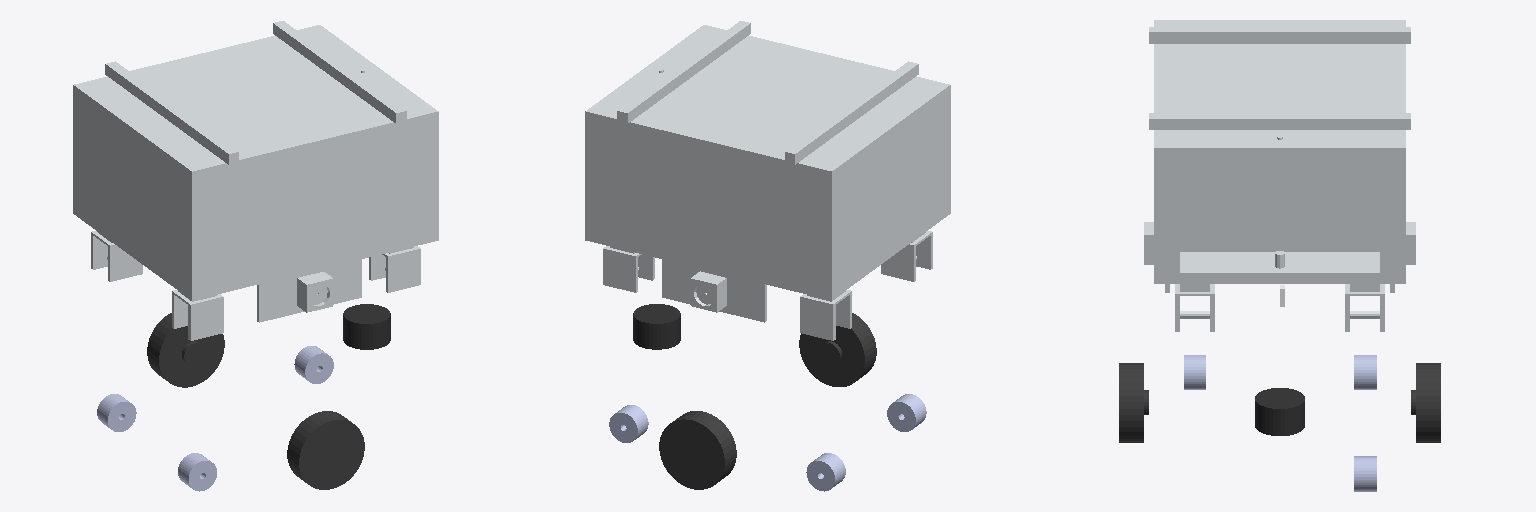
The robot description file, URDF, robot "custom_amr":
<?xml version="1.0" encoding="utf-8"?>

<robot
  name="custom_amr">
  
  <!-- LINKS AND JOINTS (With sensor links and sensor joints)-->
  <link name="base_footprint">
    
  </link>
  
  <link
    name="base_link">
    <inertial>
      <origin
        xyz="-0.013949 0 -0.15385"
        rpy="0 0 0" />
      <mass
        value="241.44" />
      <inertia
        ixx="7.4412"
        ixy="1.9468E-15"
        ixz="-0.18882"
        iyy="8.8511"
        iyz="1.2162E-16"
        izz="11.883" />
    </inertial>
    <visual>
      <origin
        xyz="0 0 0"
        rpy="0 0 0" />
      <geometry>
        <mesh
          filename="package://amr_description/meshes/base_link.STL" />
      </geometry>
      <material
        name="">
        <color
          rgba="0.89804 0.91765 0.92941 1" />
      </material>
    </visual>
    <collision>
      <origin
        xyz="0 0 0"
        rpy="0 0 0" />
      <geometry>
        <mesh
          filename="package://amr_description/meshes/base_link.STL" />
      </geometry>
    </collision>
  </link>
  
  <joint name="base_joint" type="fixed">
    <origin xyz="0.0 0.0 0.43" rpy="0.0 0.0 0.0"/>
    <parent link="base_footprint"/>
    <child link="base_link"/>
  </joint>
  
  <link
    name="left_wheel">
    <inertial>
      <origin
        xyz="-5.5511E-17 -0.00057471 0"
        rpy="0 0 0" />
      <mass
        value="1.0249" />
      <inertia
        ixx="0.0018385"
        ixy="2.5664E-19"
        ixz="6.6326E-22"
        iyy="0.0032231"
        iyz="-2.3517E-21"
        izz="0.0018385" />
    </inertial>
    <visual>
      <origin
        xyz="0 0 0"
        rpy="0 0 0" />
      <geometry>
        <mesh
          filename="package://amr_description/meshes/left_wheel.STL" />
      </geometry>
      <material
        name="">
        <color
          rgba="0.29804 0.29804 0.29804 1" />
      </material>
    </visual>
    <collision>
      <origin
        xyz="0 0 0"
        rpy="0 0 0" />
      <geometry>
        <mesh
          filename="package://amr_description/meshes/left_wheel.STL" />
      </geometry>
    </collision>
  </link>


  <joint
    name="left_wheel_joint"
    type="continuous">
    <origin
      xyz="0 0.295 -0.35"
      rpy="0 0 0" />
    <parent
      link="base_link" />
    <child
      link="left_wheel" />
    <axis
      xyz="0 1 0" />
  </joint>


  <link
    name="right_wheel">
    <inertial>
      <origin
        xyz="0 0.00057471 2.7756E-17"
        rpy="0 0 0" />
      <mass
        value="1.0249" />
      <inertia
        ixx="0.0018385"
        ixy="2.5368E-19"
        ixz="-2.778E-20"
        iyy="0.0032231"
        iyz="2.7245E-20"
        izz="0.0018385" />
    </inertial>
    <visual>
      <origin
        xyz="0 0 0"
        rpy="0 0 0" />
      <geometry>
        <mesh
          filename="package://amr_description/meshes/right_wheel.STL" />
      </geometry>
      <material
        name="">
        <color
          rgba="0.29804 0.29804 0.29804 1" />
      </material>
    </visual>
    <collision>
      <origin
        xyz="0 0 0"
        rpy="0 0 0" />
      <geometry>
        <mesh
          filename="package://amr_description/meshes/right_wheel.STL" />
      </geometry>
    </collision>
  </link>

  
  <joint
    name="right_wheel_joint"
    type="continuous">
    <origin
      xyz="0 -0.295 -0.35"
      rpy="0 0 0" />
    <parent
      link="base_link" />
    <child
      link="right_wheel" />
    <axis
      xyz="0 1 0" />
  </joint>
  <link
    name="front_right_caster_link">
    <inertial>
      <origin
        xyz="0 0 0"
        rpy="0 0 0" />
      <mass
        value="0.16523" />
      <inertia
        ixx="8.0807E-05"
        ixy="4.7926E-21"
        ixz="1.8251E-35"
        iyy="0.00010585"
        iyz="8.3934E-20"
        izz="8.0807E-05" />
    </inertial>
    <visual>
      <origin
        xyz="0 0 0"
        rpy="0 0 0" />
      <geometry>
        <mesh
          filename="package://amr_description/meshes/front_right_caster_link.STL" />
      </geometry>
      <material
        name="">
        <color
          rgba="0.79216 0.81961 0.93333 1" />
      </material>
    </visual>
    <collision>
      <origin
        xyz="0 0 0"
        rpy="0 0 0" />
      <geometry>
        <mesh
          filename="package://amr_description/meshes/front_right_caster_link.STL" />
      </geometry>
    </collision>
  </link>
  <joint
    name="front_right_caster_joint"
    type="fixed">
    <origin
      xyz="0.24 -0.1705 -0.395"
      rpy="0 0 0" />
    <parent
      link="base_link" />
    <child
      link="front_right_caster_link" />
    <axis
      xyz="0 0 0" />
  </joint>
  <link
    name="front_left_caster_link">
    <inertial>
      <origin
        xyz="0 -5.5511E-17 -2.7756E-17"
        rpy="0 0 0" />
      <mass
        value="0.16523" />
      <inertia
        ixx="8.0807E-05"
        ixy="7.4131E-21"
        ixz="-5.5737E-37"
        iyy="0.00010585"
        iyz="8.3934E-20"
        izz="8.0807E-05" />
    </inertial>
    <visual>
      <origin
        xyz="0 0 0"
        rpy="0 0 0" />
      <geometry>
        <mesh
          filename="package://amr_description/meshes/front_left_caster_link.STL" />
      </geometry>
      <material
        name="">
        <color
          rgba="0.79216 0.81961 0.93333 1" />
      </material>
    </visual>
    <collision>
      <origin
        xyz="0 0 0"
        rpy="0 0 0" />
      <geometry>
        <mesh
          filename="package://amr_description/meshes/front_left_caster_link.STL" />
      </geometry>
    </collision>
  </link>
  <joint
    name="front_left_caster_joint"
    type="fixed">
    <origin
      xyz="0.24 0.1705 -0.395"
      rpy="0 0 0" />
    <parent
      link="base_link" />
    <child
      link="front_left_caster_link" />
    <axis
      xyz="0 0 0" />
  </joint>
  <link
    name="back_right_caster_link">
    <inertial>
      <origin
        xyz="0 0 0"
        rpy="0 0 0" />
      <mass
        value="0.16523" />
      <inertia
        ixx="8.0807E-05"
        ixy="4.6338E-21"
        ixz="1.5185E-35"
        iyy="0.00010585"
        iyz="8.2067E-20"
        izz="8.0807E-05" />
    </inertial>
    <visual>
      <origin
        xyz="0 0 0"
        rpy="0 0 0" />
      <geometry>
        <mesh
          filename="package://amr_description/meshes/back_right_caster_link.STL" />
      </geometry>
      <material
        name="">
        <color
          rgba="0.79216 0.81961 0.93333 1" />
      </material>
    </visual>
    <collision>
      <origin
        xyz="0 0 0"
        rpy="0 0 0" />
      <geometry>
        <mesh
          filename="package://amr_description/meshes/back_right_caster_link.STL" />
      </geometry>
    </collision>
  </link>
  <joint
    name="back_right_caster_joint"
    type="fixed">
    <origin
      xyz="-0.24 -0.1695 -0.395"
      rpy="0 0 0" />
    <parent
      link="base_link" />
    <child
      link="back_right_caster_link" />
    <axis
      xyz="0 0 0" />
  </joint>
  <link
    name="back_left_caster_link">
    <inertial>
      <origin
        xyz="0 -5.5511E-17 -2.7756E-17"
        rpy="0 0 0" />
      <mass
        value="0.16523" />
      <inertia
        ixx="8.0807E-05"
        ixy="4.6338E-21"
        ixz="1.4714E-35"
        iyy="0.00010585"
        iyz="7.9526E-20"
        izz="8.0807E-05" />
    </inertial>
    <visual>
      <origin
        xyz="0 0 0"
        rpy="0 0 0" />
      <geometry>
        <mesh
          filename="package://amr_description/meshes/back_left_caster_link.STL" />
      </geometry>
      <material
        name="">
        <color
          rgba="0.79216 0.81961 0.93333 1" />
      </material>
    </visual>
    <collision>
      <origin
        xyz="0 0 0"
        rpy="0 0 0" />
      <geometry>
        <mesh
          filename="package://amr_description/meshes/back_left_caster_link.STL" />
      </geometry>
    </collision>
  </link>
  <joint
    name="back_left_caster_joint"
    type="fixed">
    <origin
      xyz="-0.24 0.1705 -0.395"
      rpy="0 0 0" />
    <parent
      link="base_link" />
    <child
      link="back_left_caster_link" />
    <axis
      xyz="0 0 0" />
  </joint>
  <link
    name="laser_link">
    <inertial>
      <origin
        xyz="0 0 0.00030612"
        rpy="0 0 0" />
      <mass
        value="0.47105" />
      <inertia
        ixx="0.00044145"
        ixy="1.2037E-35"
        ixz="-1.6617E-36"
        iyy="0.00044145"
        iyz="-1.1454E-21"
        izz="0.00060035" />
    </inertial>
    <visual>
      <origin
        xyz="0 0 0"
        rpy="0 0 0" />
      <geometry>
        <mesh
          filename="package://amr_description/meshes/laser_link.STL" />
      </geometry>
      <material
        name="">
        <color
          rgba="0.25098 0.25098 0.25098 1" />
      </material>
    </visual>
    <collision>
      <origin
        xyz="0 0 0"
        rpy="0 0 0" />
      <geometry>
        <mesh
          filename="package://amr_description/meshes/laser_link.STL" />
      </geometry>
    </collision>
  </link>
  <joint
    name="laser_joint"
    type="fixed">
    <origin
      xyz="0.27 0 -0.245"
      rpy="0 0 0" />
    <parent
      link="base_link" />
    <child
      link="laser_link" />
    <axis
      xyz="0 0 0" />
  </joint>
  <link
    name="imu_link">
    <inertial>
      <origin
        xyz="0 0 0"
        rpy="0 0 0" />
      <mass
        value="0" />
      <inertia
        ixx="0"
        ixy="0"
        ixz="0"
        iyy="0"
        iyz="0"
        izz="0" />
    </inertial>
    <visual>
      <origin
        xyz="0 0 0"
        rpy="0 0 0" />
      <geometry>
        <mesh
          filename="package://amr_description/meshes/imu_link.STL" />
      </geometry>
      <material
        name="">
        <color
          rgba="1 1 1 1" />
      </material>
    </visual>
    <collision>
      <origin
        xyz="0 0 0"
        rpy="0 0 0" />
      <geometry>
        <mesh
          filename="package://amr_description/meshes/imu_link.STL" />
      </geometry>
    </collision>
  </link>
  <joint
    name="imu_joint"
    type="fixed">
    <origin
      xyz="0.26 0 0.005"
      rpy="0 0 0" />
    <parent
      link="base_link" />
    <child
      link="imu_link" />
    <axis
      xyz="0 0 0" />
  </joint>

<!-- Sensor Descriptions -->

<!-- Laser Scanner -->
<gazebo reference="laser_link">
  <sensor type="ray" name="LDS_01">
    <pose>0 0 0 0 0 0</pose>
    <visualize>true</visualize>
    <update_rate>40</update_rate>
    <ray>
      <scan>
        <horizontal>
          <samples>720</samples>
          <resolution>1</resolution>
          <min_angle>-1.5708</min_angle>
          <max_angle>1.5708</max_angle>
        </horizontal>
      </scan>
      <range>
        <min>0.10</min>
        <max>30.0</max>
        <resolution>0.01</resolution>
      </range>
      <noise>
        <type>gaussian</type>
        <!-- Noise parameters based on published spec for Hokuyo laser
             achieving "+-30mm" accuracy at range < 10m.  A mean of 0.0m and
             stddev of 0.01m will put 99.7% of samples within 0.03m of the true
             reading. -->
        <mean>0.0</mean>
        <stddev>0.01</stddev>
      </noise>
    </ray>
    <plugin name="gazebo_ros_head_hokuyo_controller" filename="libgazebo_ros_laser.so">
      <topicName>/scan</topicName>
      <frameName>laser_link</frameName>
    </plugin>
  </sensor>
</gazebo>

<!-- IMU -->
<!-- <gazebo reference="imu_link">
  <gravity>true</gravity>
  <sensor name="imu_sensor" type="imu">
    <always_on>true</always_on>
    <update_rate>100</update_rate>
    <visualize>true</visualize>
    <topic>__default_topic__</topic>
    <plugin filename="libgazebo_ros_imu_sensor.so" name="imu_plugin">
      <topicName>imu</topicName>
      <bodyName>imu_link</bodyName>
      <updateRateHZ>10.0</updateRateHZ>
      <gaussianNoise>0.0</gaussianNoise>
      <xyzOffset>0 0 0</xyzOffset>
      <rpyOffset>0 0 0</rpyOffset>
      <frameName>imu_link</frameName>
      <initialOrientationAsReference>false</initialOrientationAsReference>
    </plugin>
    <pose>0 0 0 0 0 0</pose>
  </sensor>
</gazebo>
-->

<!-- Differential Drive Plugin -->
<gazebo>
  <plugin name="differential_drive_controller" filename="libgazebo_ros_diff_drive.so">

    <!-- Plugin update rate in Hz -->
    <updateRate>30</updateRate>

    <!-- Name of left joint, defaults to `left_joint` -->
    <leftJoint>left_wheel_joint</leftJoint>

    <!-- Name of right joint, defaults to `right_joint` -->
    <rightJoint>right_wheel_joint</rightJoint>

    <!-- The distance from the center of one wheel to the other, in meters, defaults to 0.34 m -->
    <wheelSeparation>0.590</wheelSeparation>

    <!-- Diameter of the wheels, in meters, defaults to 0.15 m -->
    <wheelDiameter>0.160</wheelDiameter>

    <!-- Wheel acceleration, in rad/s^2, defaults to 0.0 rad/s^2 -->
    <wheelAcceleration>1.0</wheelAcceleration>

    <!-- Maximum torque which the wheels can produce, in Nm, defaults to 5 Nm -->
    <wheelTorque>30</wheelTorque>

    <!-- Topic to receive geometry_msgs/Twist message commands, defaults to `cmd_vel` -->
    <commandTopic>cmd_vel</commandTopic>

    <!-- Topic to publish nav_msgs/Odometry messages, defaults to `odom` -->
    <odometryTopic>odom</odometryTopic>

    <!-- Odometry frame, defaults to `odom` -->
    <odometryFrame>odom</odometryFrame>

    <!-- Robot frame to calculate odometry from, defaults to `base_footprint` -->
    <robotBaseFrame>base_footprint</robotBaseFrame>

    <!-- Odometry source, 0 for ENCODER, 1 for WORLD, defaults to WORLD -->
    <odometrySource>1</odometrySource>

    <!-- Set to true to publish transforms for the wheel links, defaults to false -->
    <publishWheelTF>true</publishWheelTF>

    <!-- Set to true to publish transforms for the odometry, defaults to true -->
    <publishOdom>true</publishOdom>

    <!-- Set to true to publish sensor_msgs/JointState on /joint_states for the wheel joints, defaults to false -->
    <publishWheelJointState>true</publishWheelJointState>

    <!-- Set to true to swap right and left wheels, defaults to true -->
    <legacyMode>false</legacyMode>
  </plugin>
</gazebo>


<!-- ROS Control Plugin -->
<gazebo>
  <plugin name="gazebo_ros_control" filename="libgazebo_ros_control.so">
    <robotNamespace>/</robotNamespace>
    <controlPeriod>0.001</controlPeriod>
    <legacyModeNS>false</legacyModeNS>
  </plugin>
</gazebo>

<!-- Friction and Physics Properties-->
<gazebo reference="base_link">
  <mu1 value="1.0"/>
  <mu2 value="1.0"/>
  <kp value="10000000.0" />
  <kd value="1.0" />
  <fdir1 value="1 0 0"/>
 </gazebo>

<gazebo reference="left_wheel">
  <mu1 value="100.0"/>
  <mu2 value="100.0"/>
  <kp value="10000000.0" />
  <kd value="1.0" />
  <fdir1 value="1 0 0"/>
 </gazebo>
 
 <gazebo reference="right_wheel">
  <mu1 value="100.0"/>
  <mu2 value="100.0"/>
  <kp value="11000000.0" />
  <kd value="1.0" />
  <fdir1 value="1 0 0"/>
 </gazebo>
 
 <gazebo reference="front_right_caster_link">
  <mu1 value="0.1"/>
  <mu2 value="0.1"/>
  <kp value="1000000.0" />
  <kd value="1.0" />
  <fdir1 value="1 0 0"/>
 </gazebo>
 
 <gazebo reference="front_left_caster_link">
  <mu1 value="0.1"/>
  <mu2 value="0.1"/>
  <kp value="1000000.0" />
  <kd value="1.0" />
  <fdir1 value="1 0 0"/>
 </gazebo>

 <gazebo reference="back_left_caster_link">
  <mu1 value="0.1"/>
  <mu2 value="0.1"/>
  <kp value="1000000.0" />
  <kd value="1.0" />
  <fdir1 value="1 0 0"/>
 </gazebo>

 <gazebo reference="back_right_caster_link">
  <mu1 value="0.1"/>
  <mu2 value="0.1"/>
  <kp value="1000000.0" />
  <kd value="1.0" />
  <fdir1 value="1 0 0"/>
 </gazebo>

<!-- Materials --> 

</robot>

--- What the picture shows (computed from the rendered views, not written in the file) ---
Views: 3 orthographic renders of the robot side by side, from view 1: azimuth 30°, elevation 25°; view 2: azimuth 150°, elevation 25°; view 3: azimuth 270°, elevation 25°.
Model custom_amr with 10 links and 9 joints (2 continuous, 7 fixed), rooted at base_footprint, posed all joints at 0.
Visible links, largest first — view 1: base_link, right_wheel, left_wheel, laser_link, back_right_caster_link, front_left_caster_link, back_left_caster_link; view 2: base_link, left_wheel, right_wheel, laser_link, back_left_caster_link, back_right_caster_link, front_left_caster_link; view 3: base_link, laser_link, left_wheel, right_wheel, front_left_caster_link, back_left_caster_link, back_right_caster_link.
Boxes of the visible links, x1,y1,x2,y2 form: base_link: (73, 21, 438, 340); right_wheel: (287, 411, 364, 489); left_wheel: (147, 313, 224, 387); laser_link: (343, 304, 390, 349); back_right_caster_link: (178, 453, 216, 491); front_left_caster_link: (294, 346, 333, 383); back_left_caster_link: (97, 394, 136, 431); base_link: (585, 21, 950, 340); left_wheel: (659, 411, 736, 489); right_wheel: (799, 313, 876, 386); laser_link: (633, 304, 680, 349); back_left_caster_link: (806, 453, 845, 491); back_right_caster_link: (887, 394, 926, 431); front_left_caster_link: (609, 405, 648, 442); base_link: (1144, 20, 1415, 331); laser_link: (1255, 388, 1304, 435); left_wheel: (1411, 363, 1440, 442); right_wheel: (1119, 363, 1148, 442); front_left_caster_link: (1354, 456, 1376, 491); back_left_caster_link: (1354, 355, 1376, 389); back_right_caster_link: (1184, 355, 1205, 389).
Size in the robot's own frame: 0.62 by 0.64 by 0.8048 metres.
8 mesh visuals loaded from 9 distinct referenced files (8 binary STL); not drawn: 1 (reference not matched to a file when rendering).
